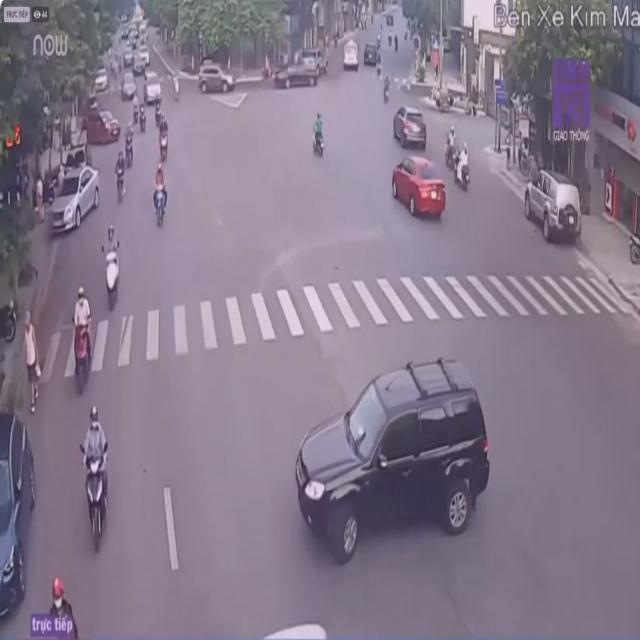car: (295, 360, 498, 553), (0, 412, 35, 626), (523, 169, 580, 248), (391, 156, 448, 224), (50, 168, 98, 228), (238, 623, 351, 640), (394, 106, 428, 152), (198, 61, 234, 97)
motorbike: (80, 404, 111, 551), (29, 581, 82, 640), (69, 284, 97, 386), (99, 225, 123, 315), (445, 127, 468, 192), (153, 161, 170, 229), (454, 143, 472, 195), (311, 109, 327, 160), (113, 152, 127, 202), (158, 115, 171, 160), (125, 126, 136, 168)
